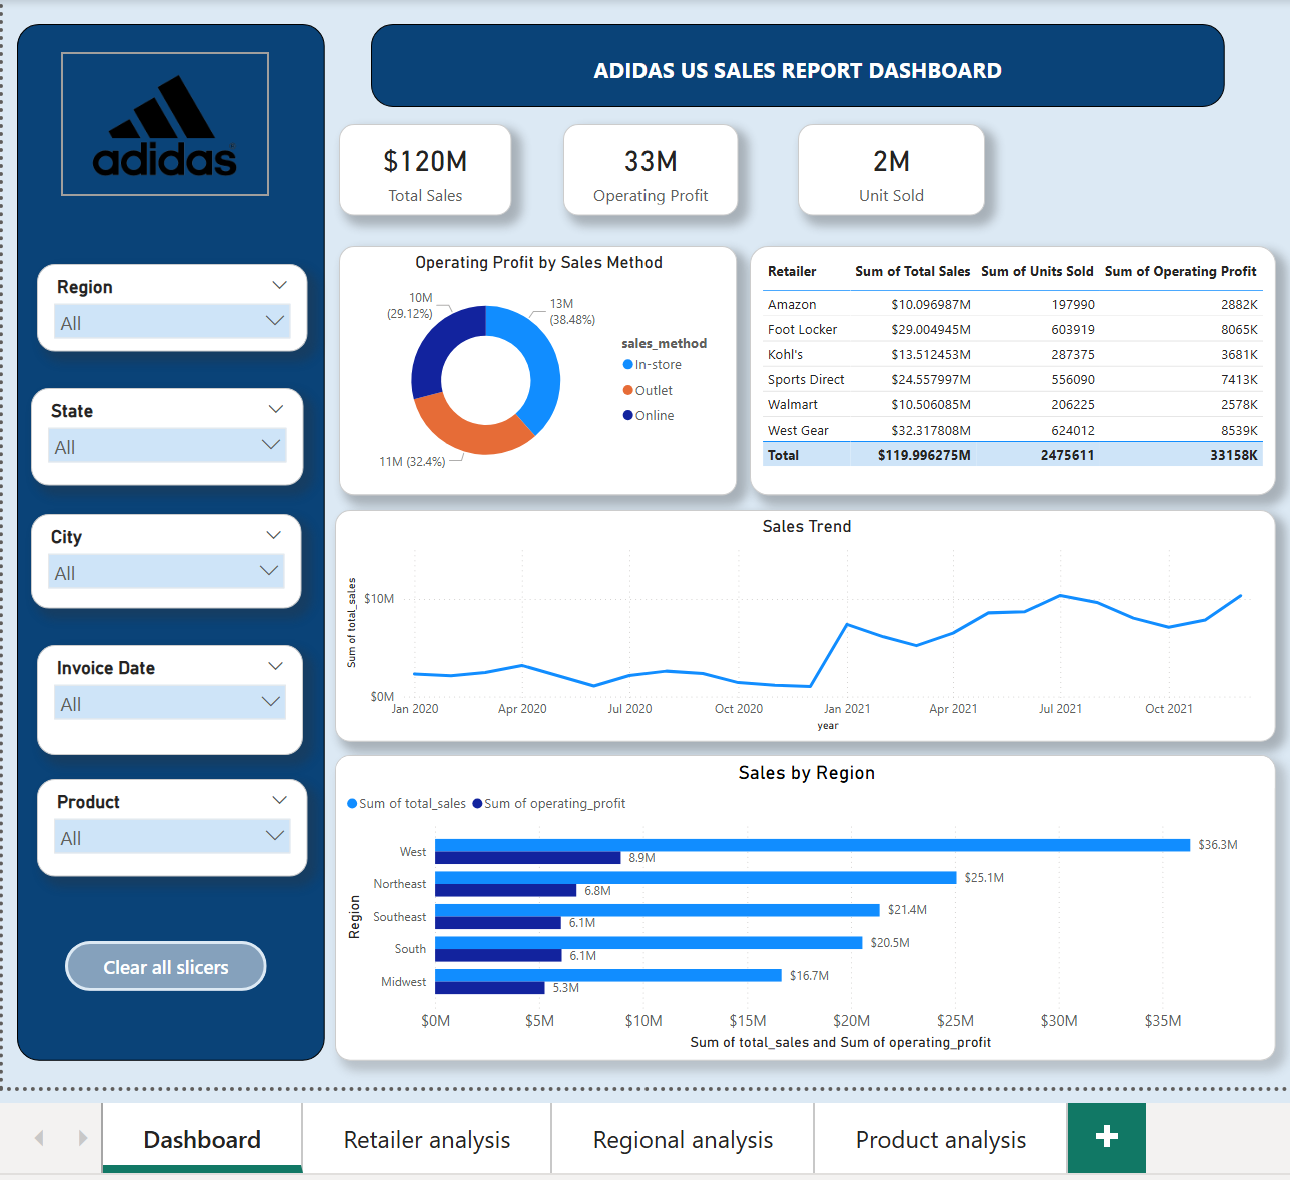

Layout of this report page (visuals, bound fields, positions):
{"tool":"powerbi","page":{"name":"Dashboard","canvas":[1280,1080],"ordinal":0},"visuals":[{"type":"textbox","box":[366,24.8,847.8,82.7],"z":0},{"type":"card","fields":{"Values":["Sum(Sheet1.total_sales)"]},"box":[335,124.1,171.6,91],"z":1000},{"type":"card","fields":{"Values":["Sum(Sheet1.operating_profit)"]},"box":[556.3,124.1,173.7,91],"z":2000},{"type":"card","fields":{"Values":["Sum(Sheet1.units_sold)"]},"box":[789.9,124.1,186.1,91],"z":3000},{"type":"textbox","box":[14.5,24.8,306,1029.8],"z":4000},{"type":"donutChart","title":"Operating Profit by Sales Method","fields":{"Category":["Sheet1.sales_method"],"Y":["Sum(Sheet1.operating_profit)"]},"box":[335,244,395,248.1],"z":5000},{"type":"tableEx","fields":{"Values":["Sheet1.retailer","Sum(Sheet1.total_sales)","Sum(Sheet1.units_sold)","Sum(Sheet1.operating_profit)"]},"box":[742.4,244,523.2,248.1],"z":6000},{"type":"slicer","fields":{"Values":["Sheet1.region"]},"box":[33.1,262.6,268.8,86.8],"z":7000},{"type":"slicer","fields":{"Values":["Sheet1.state"]},"box":[26.9,386.7,270.9,97.2],"z":8000},{"type":"slicer","fields":{"Values":["Sheet1.city"]},"box":[26.9,510.8,268.8,93.1],"z":9000},{"type":"slicer","fields":{"Values":["Sheet1.invoice_date"]},"box":[33.1,641,264.7,109.6],"z":10000},{"type":"lineChart","title":"Sales Trend","fields":{"Y":["Sum(Sheet1.total_sales)"],"Category":["Sheet1.invoice_date.Variation.Date Hierarchy.Year","Sheet1.invoice_date.Variation.Date Hierarchy.Month"]},"box":[330.9,506.6,934.7,229.5],"z":11000},{"type":"clusteredBarChart","title":"Sales by Region","fields":{"Category":["Sheet1.region"],"Y":["Sum(Sheet1.total_sales)","Sum(Sheet1.operating_profit)"]},"box":[330.9,750.6,934.7,304],"z":12000},{"type":"image","box":[57.9,51.7,206.8,142.7],"z":13000},{"type":"slicer","fields":{"Values":["Sheet1.product"]},"box":[33.1,773.4,268.8,97.2],"z":14000},{"type":"actionButton","box":[62,934.7,200.6,49.6],"z":15000}]}

Visuals, with their boxes on the page's 1280x1080 design canvas (x1, y1, x2, y2). These are canvas units, not pixel positions in the 1290x1180 screenshot, which may show the page scaled, cropped or inside an application window:
textbox: bbox=[366, 25, 1214, 108]
card - Sum(Sheet1.total_sales): bbox=[335, 124, 507, 215]
card - Sum(Sheet1.operating_profit): bbox=[556, 124, 730, 215]
card - Sum(Sheet1.units_sold): bbox=[790, 124, 976, 215]
textbox: bbox=[14, 25, 320, 1055]
"Operating Profit by Sales Method" donutChart: bbox=[335, 244, 730, 492]
tableEx - Sheet1.retailer x Sum(Sheet1.total_sales): bbox=[742, 244, 1266, 492]
slicer - Sheet1.region: bbox=[33, 263, 302, 349]
slicer - Sheet1.state: bbox=[27, 387, 298, 484]
slicer - Sheet1.city: bbox=[27, 511, 296, 604]
slicer - Sheet1.invoice_date: bbox=[33, 641, 298, 751]
"Sales Trend" lineChart: bbox=[331, 507, 1266, 736]
"Sales by Region" clusteredBarChart: bbox=[331, 751, 1266, 1055]
image: bbox=[58, 52, 265, 194]
slicer - Sheet1.product: bbox=[33, 773, 302, 871]
actionButton: bbox=[62, 935, 263, 984]
